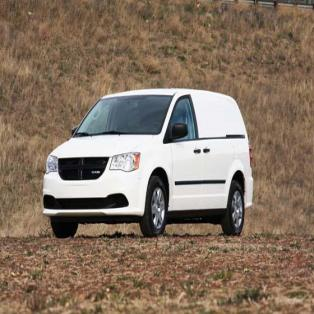Auto: (42, 87, 255, 238)
